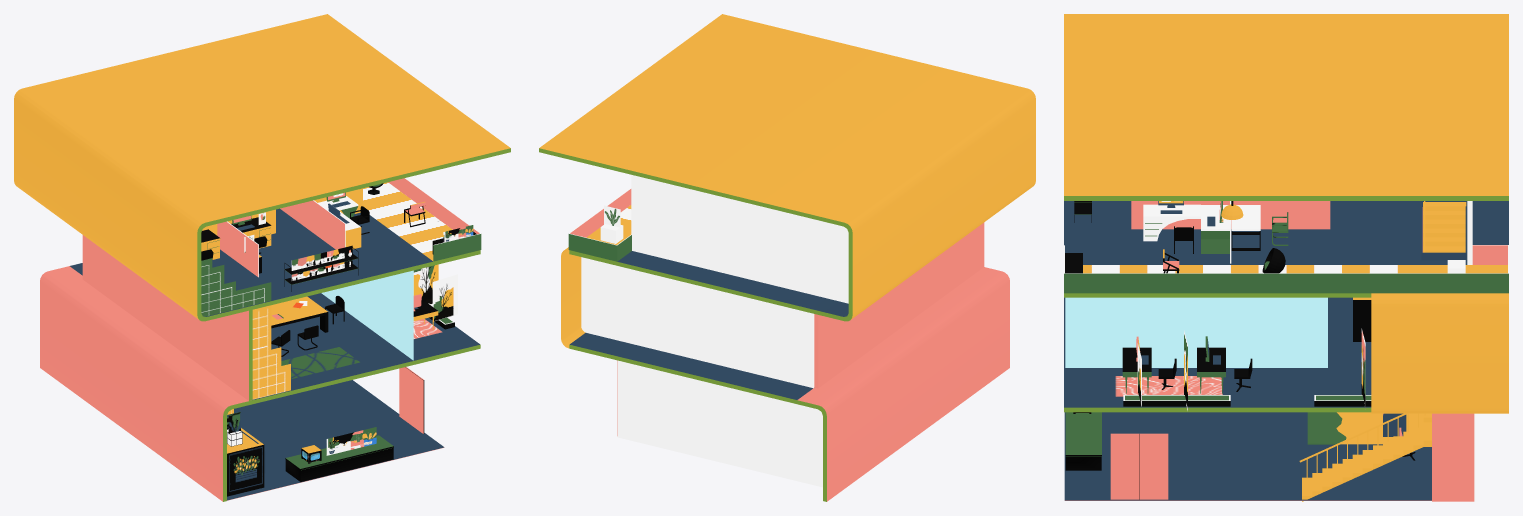
Rendered from 产品线.fbx.
3 views of the same model, side by side, from view 1: azimuth 30°, elevation 25°; view 2: azimuth 150°, elevation 25°; view 3: azimuth 270°, elevation 25° (orthographic). The views are drawn at different scales.
Parts seen in each view (by area): view 1: building, Plane_5, glass, Plane_2_3, table, Plane_8, machine1, bar, wall2, flower, wall, Plane_7 (+7 smaller); view 2: building, sacond_glass, bar; view 3: building, Plane_5, glass, sacond_glass, bar, Cube_5_2, stairs1, wall2, stairs2, table, Cube_2_3, Cube_4 (+12 smaller).
Part boxes in pixels (box(x1,y1,x2,y2)): building: box(14, 14, 510, 501); Plane_5: box(227, 380, 444, 500); glass: box(321, 270, 413, 360); Plane_2_3: box(252, 305, 290, 399); table: box(285, 435, 393, 481); Plane_8: box(201, 258, 271, 316); machine1: box(227, 428, 265, 496); bar: box(388, 178, 481, 261); wall2: box(280, 200, 345, 249); flower: box(244, 212, 473, 455); wall: box(217, 221, 258, 277); Plane_7: box(281, 347, 359, 379); building: box(539, 14, 1035, 501); sacond_glass: box(561, 247, 585, 348); bar: box(568, 188, 631, 261); building: box(1064, 14, 1508, 501); Plane_5: box(1064, 412, 1431, 500); glass: box(1065, 297, 1327, 367); sacond_glass: box(1371, 293, 1508, 413); bar: box(1064, 245, 1508, 293); Cube_5_2: box(1432, 413, 1474, 501); stairs1: box(1299, 413, 1431, 501); wall2: box(1131, 201, 1330, 229); stairs2: box(1423, 201, 1466, 252); table: box(1065, 412, 1101, 470); Cube_2_3: box(1110, 433, 1139, 499); Cube_4: box(1139, 433, 1168, 499).
Bounding box in the file's own units: 1215 × 1056 × 1230.
